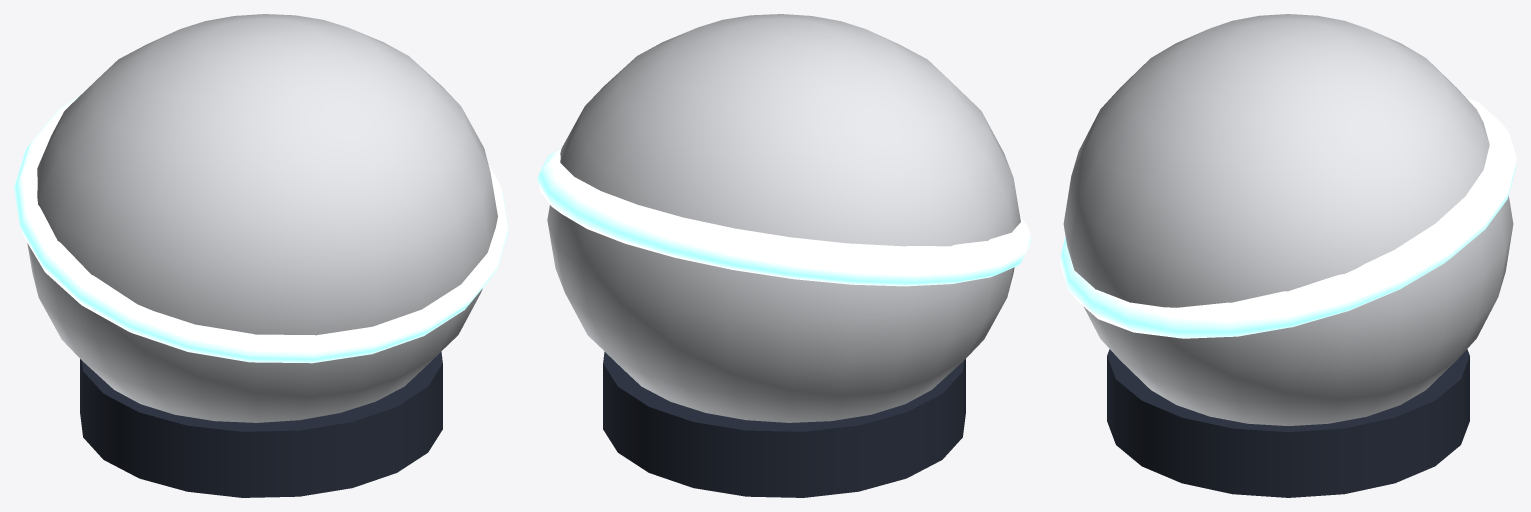
File: head_dome.glb
The picture shows the model from 3 angles, left to right: view 1: azimuth 30°, elevation 25°; view 2: azimuth 150°, elevation 25°; view 3: azimuth 270°, elevation 25°; orthographic projection.
Visible parts, largest first — view 1: Dome, Collar, Visor; view 2: Dome, Collar, Visor; view 3: Dome, Collar, Visor.
Part boxes in pixels (x1,y1,x2,y2): Dome: (27,14,497,422); Collar: (80,351,442,497); Visor: (14,95,508,363); Dome: (547,14,1020,422); Collar: (603,351,965,497); Visor: (537,149,1031,286); Dome: (1063,14,1513,425); Collar: (1107,349,1469,497); Visor: (1060,98,1516,338).
Bounding box in the file's own units: 0.6944 × 0.58 × 0.6294.
